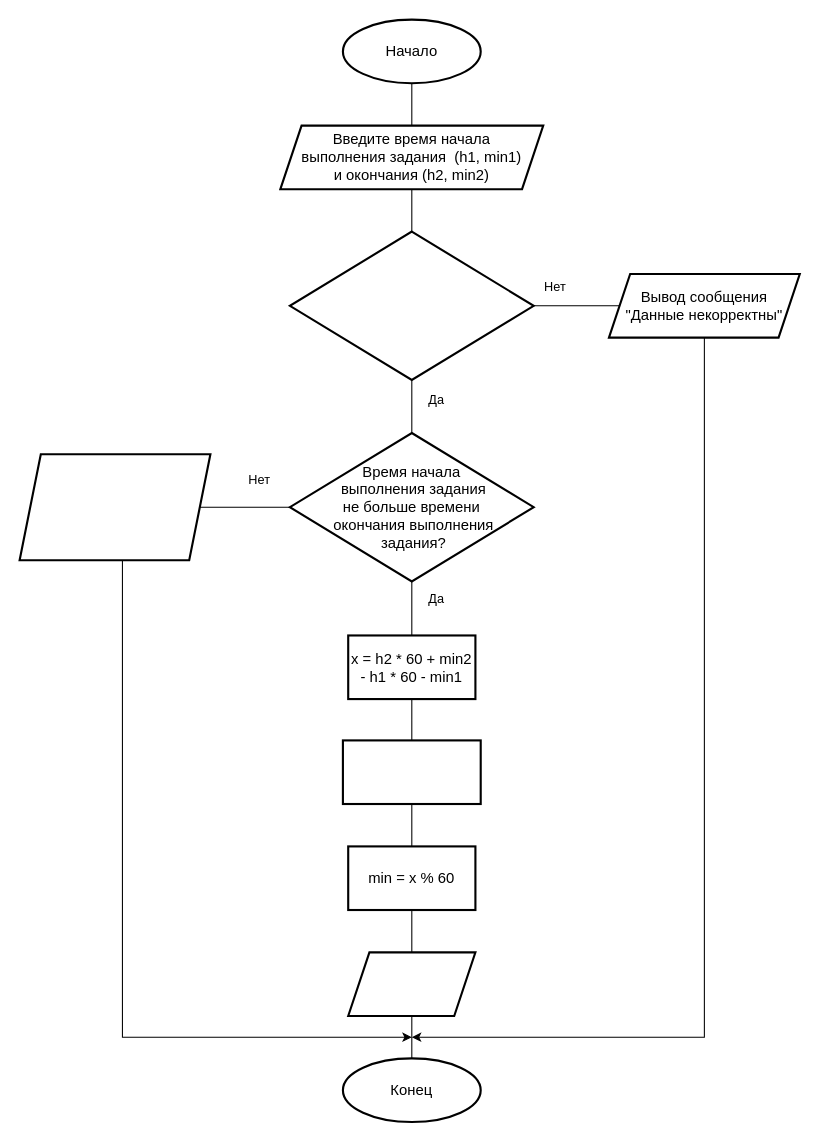
This 818x1141 diagram has some shape labels left out. Here are the shapes that lost their labels. From the top down, the centre of each, then its label:
[411,305]: Введен диапозон времени в пределах суток?
[114,507]: Вывод сообщения "Время начала выполнения задания больше времени окончания"
[411,772]: h = x / 60
[411,984]: Вывод результата (h, min)
